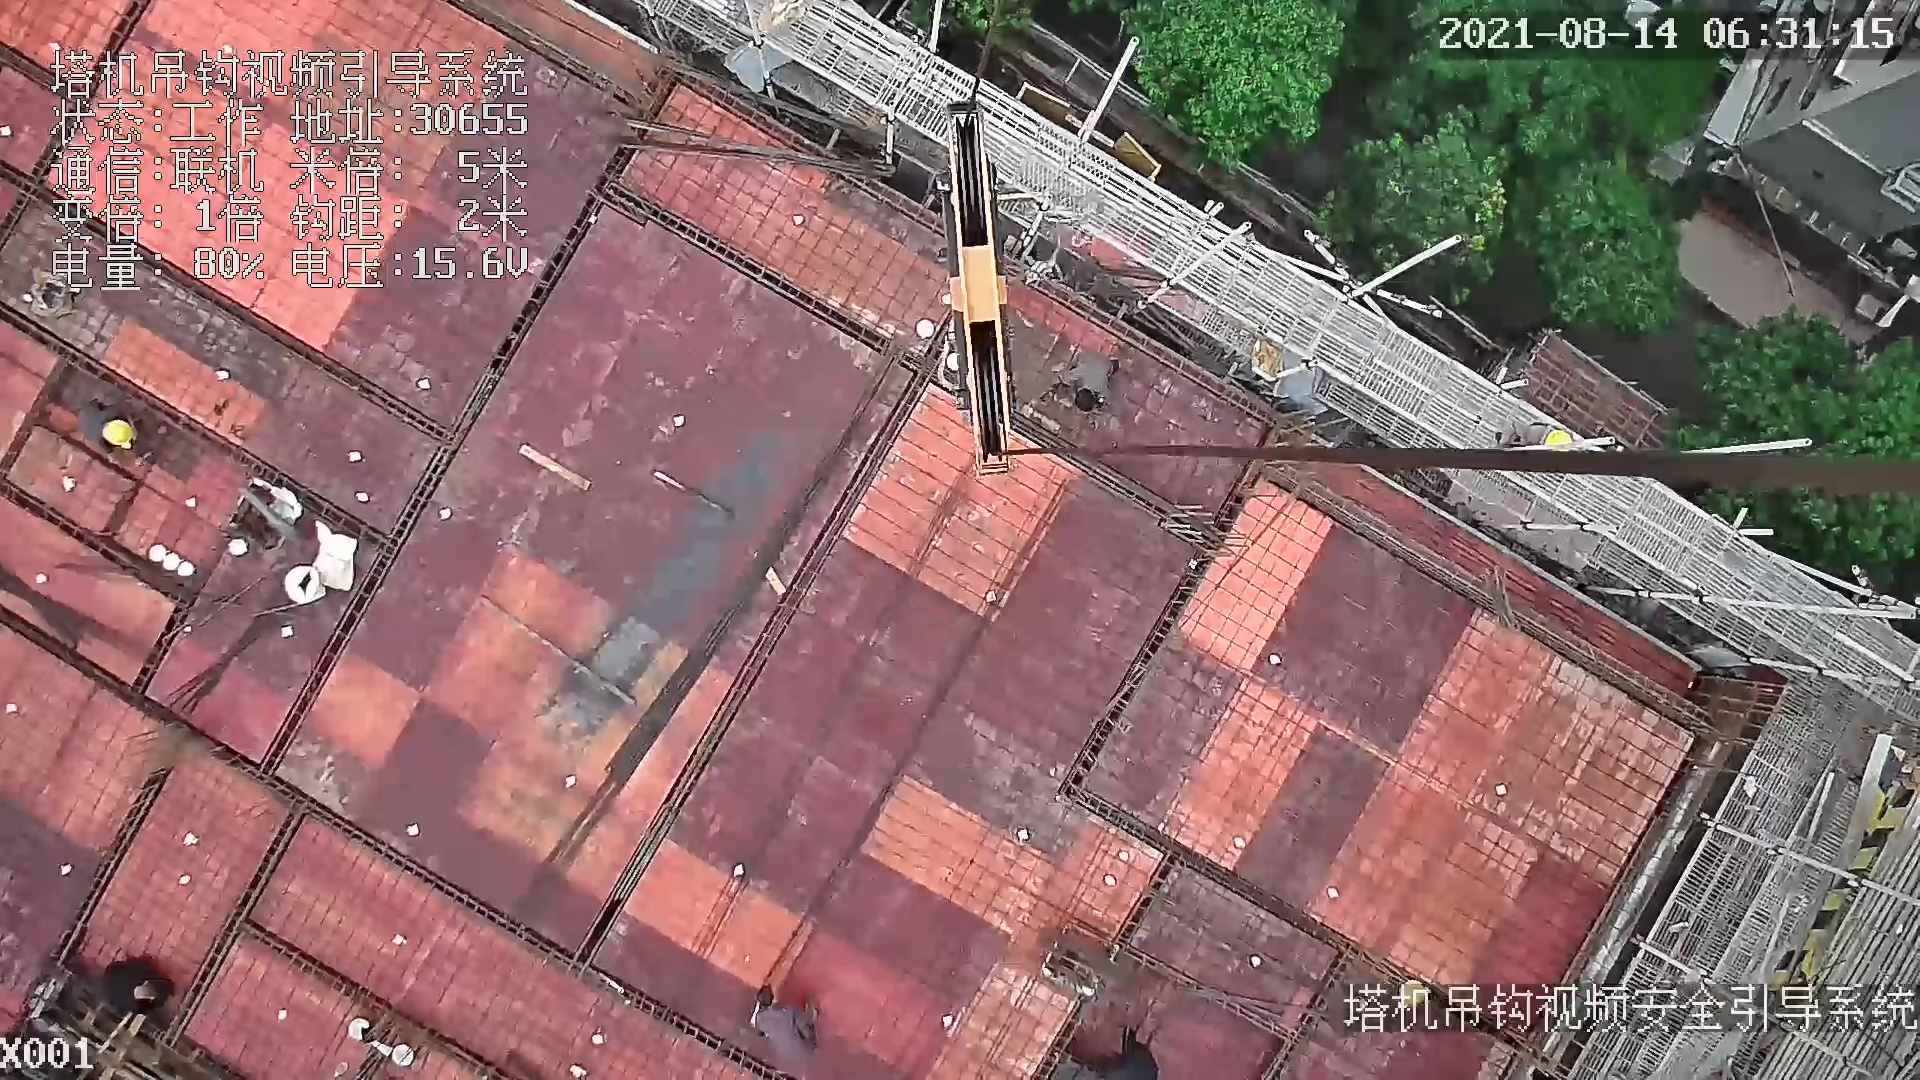helmet: (101, 418, 134, 449), (1543, 428, 1574, 446)
hook: (924, 94, 1013, 473)
person: (70, 400, 142, 463), (1497, 422, 1586, 453)
